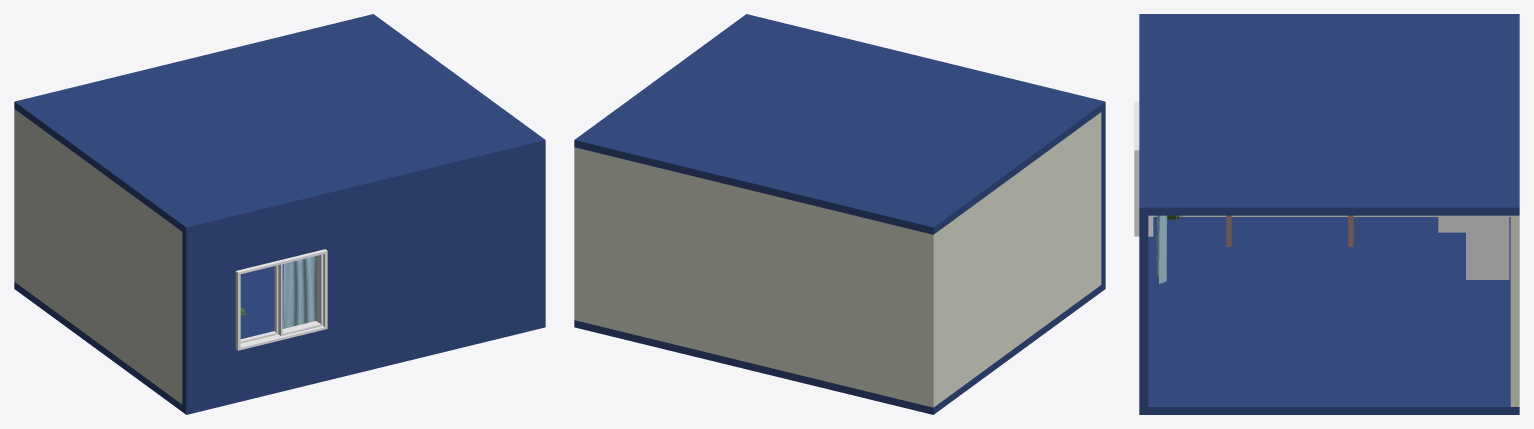
Rendered from scene_colored-transformed.glb.
The picture shows the model from 3 angles, left to right: view 1: azimuth 30°, elevation 25°; view 2: azimuth 150°, elevation 25°; view 3: azimuth 270°, elevation 25°; orthographic projection. The views are drawn at different scales.
Visible parts, largest first — view 1: Plane, Wall, Wall.001, Plane.001, Curtain, WindowFrame.001, WindowPane.001, Wall.002, WindowPane; view 2: Plane, Wall.002, Wall.001, Plane.001, Wall; view 3: Plane, Plane.001, Cube.001, Wall, Wall.002, WindowFrame.001, Curtain, Wall.001, Cube, Legs.
Boxes of the visible parts, x1,y1,x2,y2 form: Plane: (14, 14, 545, 234); Wall: (182, 147, 545, 407); Wall.001: (18, 112, 182, 404); Plane.001: (14, 264, 545, 414); Curtain: (283, 256, 316, 328); WindowFrame.001: (235, 249, 327, 350); WindowPane.001: (278, 254, 323, 335); Wall.002: (14, 109, 18, 284); WindowPane: (240, 265, 278, 343); Plane: (574, 14, 1105, 234); Wall.002: (574, 147, 937, 407); Wall.001: (937, 112, 1101, 404); Plane.001: (574, 282, 1105, 414); Wall: (1101, 109, 1105, 284); Plane: (1139, 14, 1519, 215); Plane.001: (1139, 217, 1519, 414); Cube.001: (1466, 215, 1509, 279); Wall: (1139, 215, 1148, 406); Wall.002: (1510, 215, 1519, 406); WindowFrame.001: (1134, 101, 1153, 236); Curtain: (1156, 215, 1167, 284); Wall.001: (1153, 215, 1510, 216); Cube: (1438, 215, 1465, 232); Legs: (1226, 215, 1353, 246).
Size of the model in its own units: 10 by 4.99 by 8.41.
